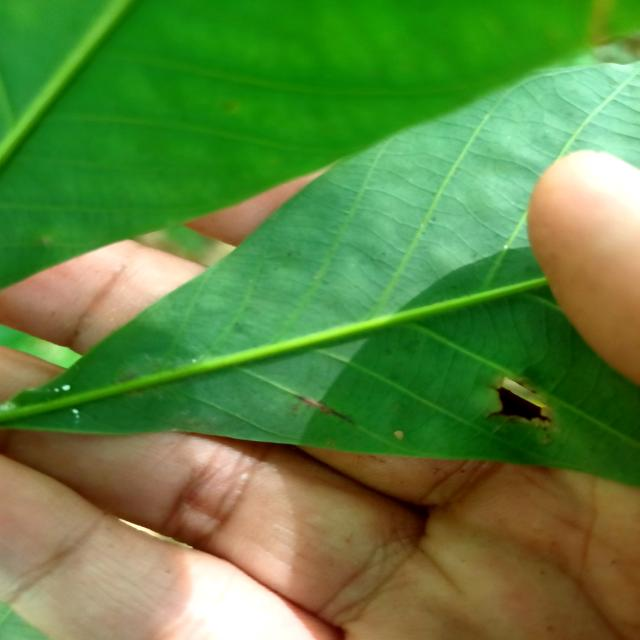Corynespora: (294, 394, 354, 424)
